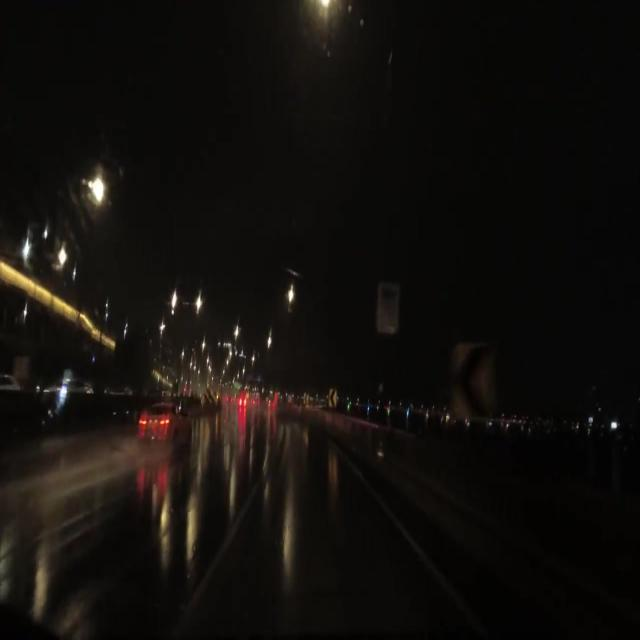Car: (135, 397, 190, 454)
